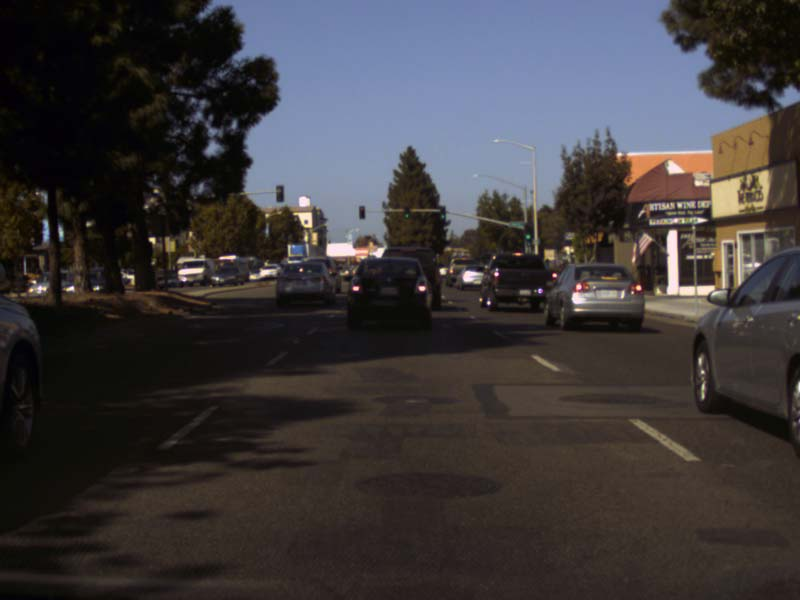Green: (524, 223, 532, 242), (439, 205, 446, 220), (403, 206, 409, 219)
Red: (359, 206, 365, 219)
